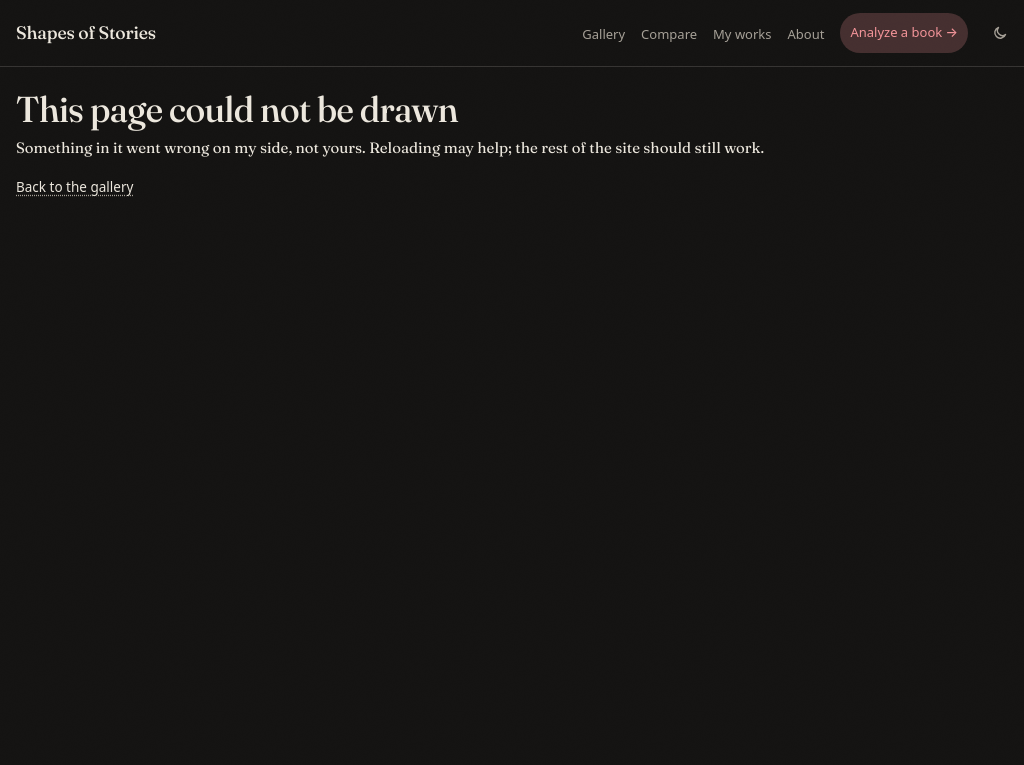
Test case: a page that breaks while drawing gets a quiet page with a way home, and the next page draws again
Expected: the heading "This page could not be drawn" is shown, [16,87,458,131]
Expected: the message shows "Something in it went wrong on my side, not yours. Reloading may help; the rest of the site should still work.", [16,138,764,157]
Click the link "About".
click(806, 34)  # box [788,24,824,42]
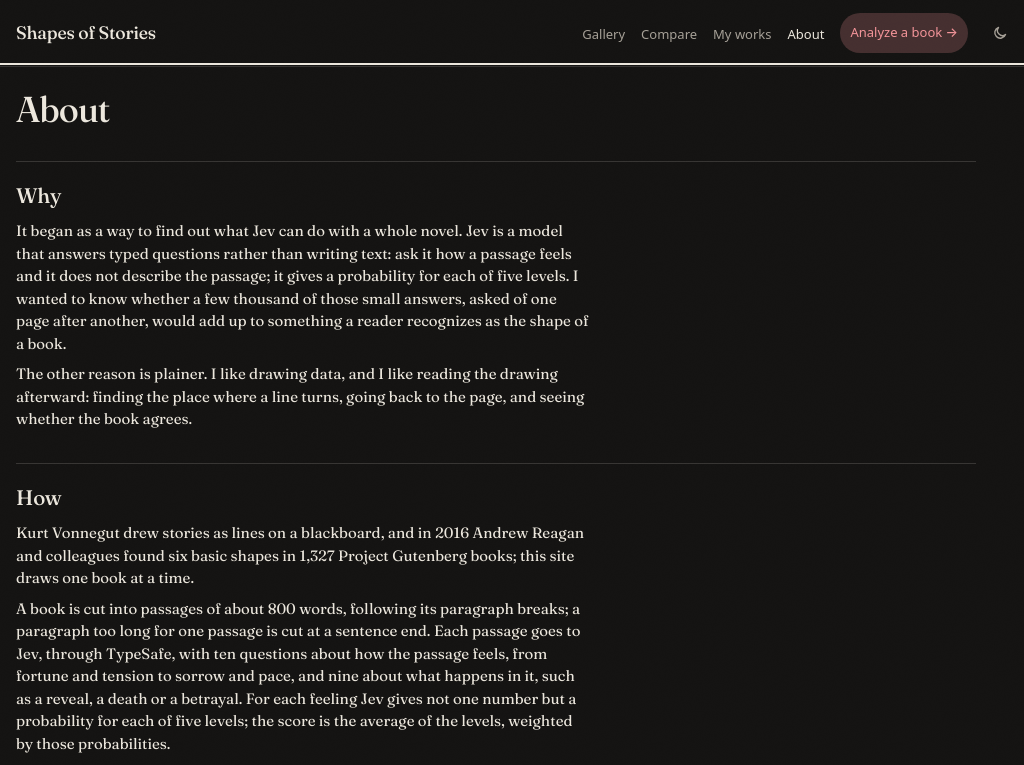
Result: the heading "About" is shown at [16,87,110,131]
